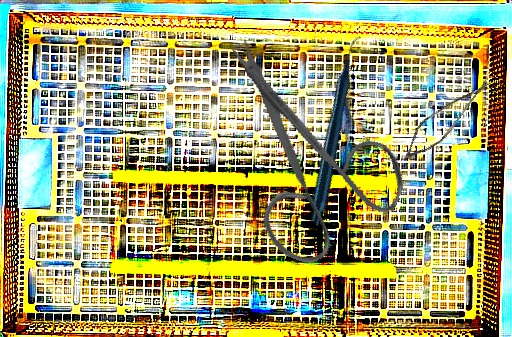Handpiece: (241, 35, 436, 227)
Iris Scissors: (168, 34, 433, 286)
Micro Scissor: (399, 61, 493, 173)
